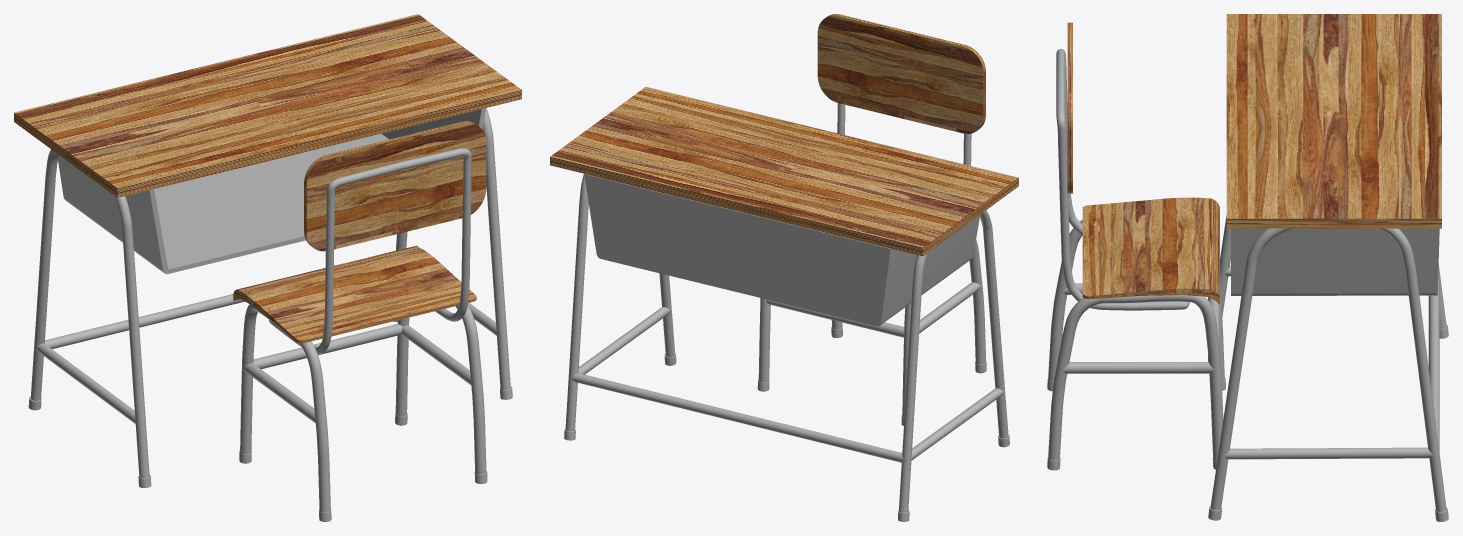
Rendered from deskAndChiar.glb.
The picture shows the model from 3 angles, left to right: view 1: azimuth 30°, elevation 25°; view 2: azimuth 150°, elevation 25°; view 3: azimuth 270°, elevation 25°; orthographic projection. The views are drawn at different scales.
Visible parts, largest first — view 1: 桌子板, 桌子柜, 椅子版, 桌子腿, 做垫, 椅子脚, 背版架; view 2: 桌子板, 桌子柜, 椅子版, 桌子腿, 椅子脚, 背版架; view 3: 桌子板, 做垫, 桌子柜, 桌子腿, 椅子脚, 背版架, 椅子版.
Part boxes in pixels (left/top/right/bottom): 桌子板: left=14, top=14, right=521, bottom=197; 桌子柜: left=58, top=108, right=485, bottom=274; 椅子版: left=304, top=121, right=486, bottom=251; 桌子腿: left=30, top=108, right=510, bottom=477; 做垫: left=233, top=245, right=476, bottom=343; 椅子脚: left=240, top=304, right=486, bottom=512; 背版架: left=269, top=148, right=471, bottom=354; 桌子板: left=550, top=87, right=1018, bottom=256; 桌子柜: left=584, top=174, right=979, bottom=326; 椅子版: left=817, top=14, right=985, bottom=133; 桌子腿: left=565, top=173, right=1008, bottom=512; 椅子脚: left=758, top=239, right=985, bottom=417; 背版架: left=837, top=103, right=971, bottom=165; 桌子板: left=1226, top=14, right=1441, bottom=228; 做垫: left=1082, top=197, right=1219, bottom=303; 桌子柜: left=1231, top=228, right=1439, bottom=295; 桌子腿: left=1210, top=215, right=1446, bottom=511; 椅子脚: left=1048, top=220, right=1224, bottom=460; 背版架: left=1056, top=49, right=1189, bottom=310; 椅子版: left=1067, top=22, right=1072, bottom=193.
Bounding box in the file's own units: 3.08 × 2.59 × 2.55.
2 materials, 1 textured.
